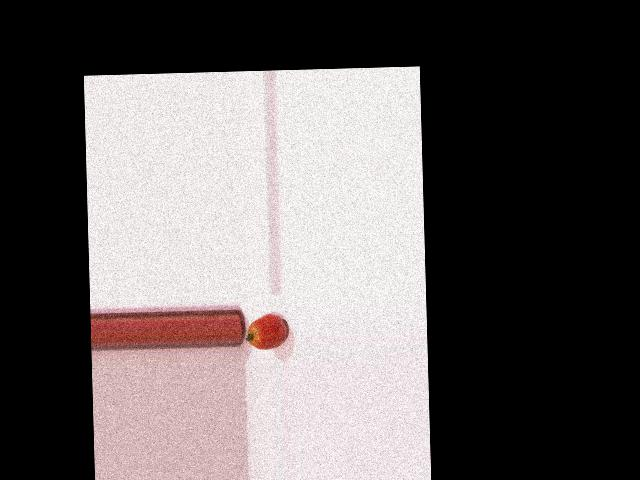tomato: (246, 313, 286, 349)
